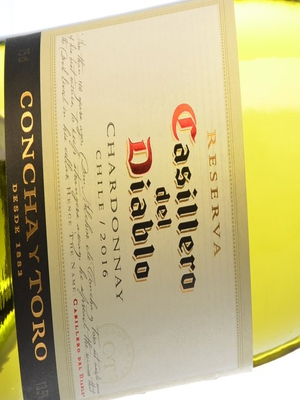casillero del diablo chardonnay: (5, 5, 300, 385)
